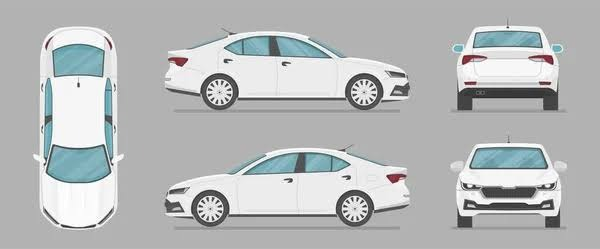car: (157, 30, 406, 108), (178, 148, 411, 226), (455, 143, 565, 226), (451, 28, 560, 109)
